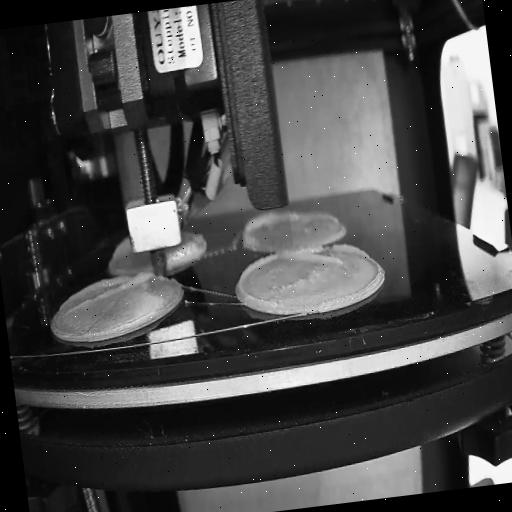over_extrusion: (64, 271, 156, 314), (235, 251, 285, 313), (279, 242, 370, 273), (238, 210, 298, 248)
